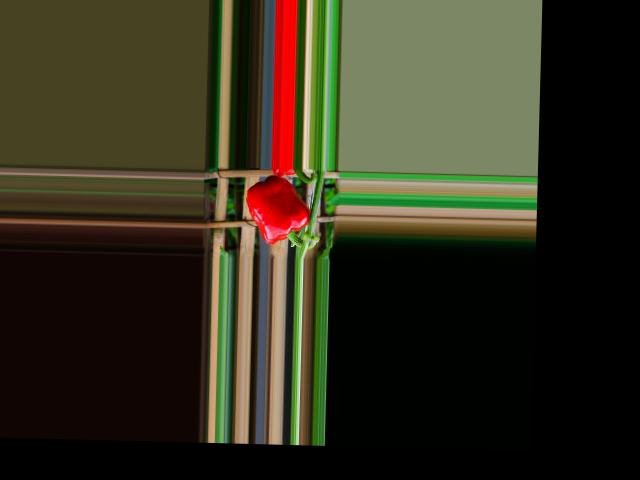bell_pepper: (240, 175, 315, 245)
